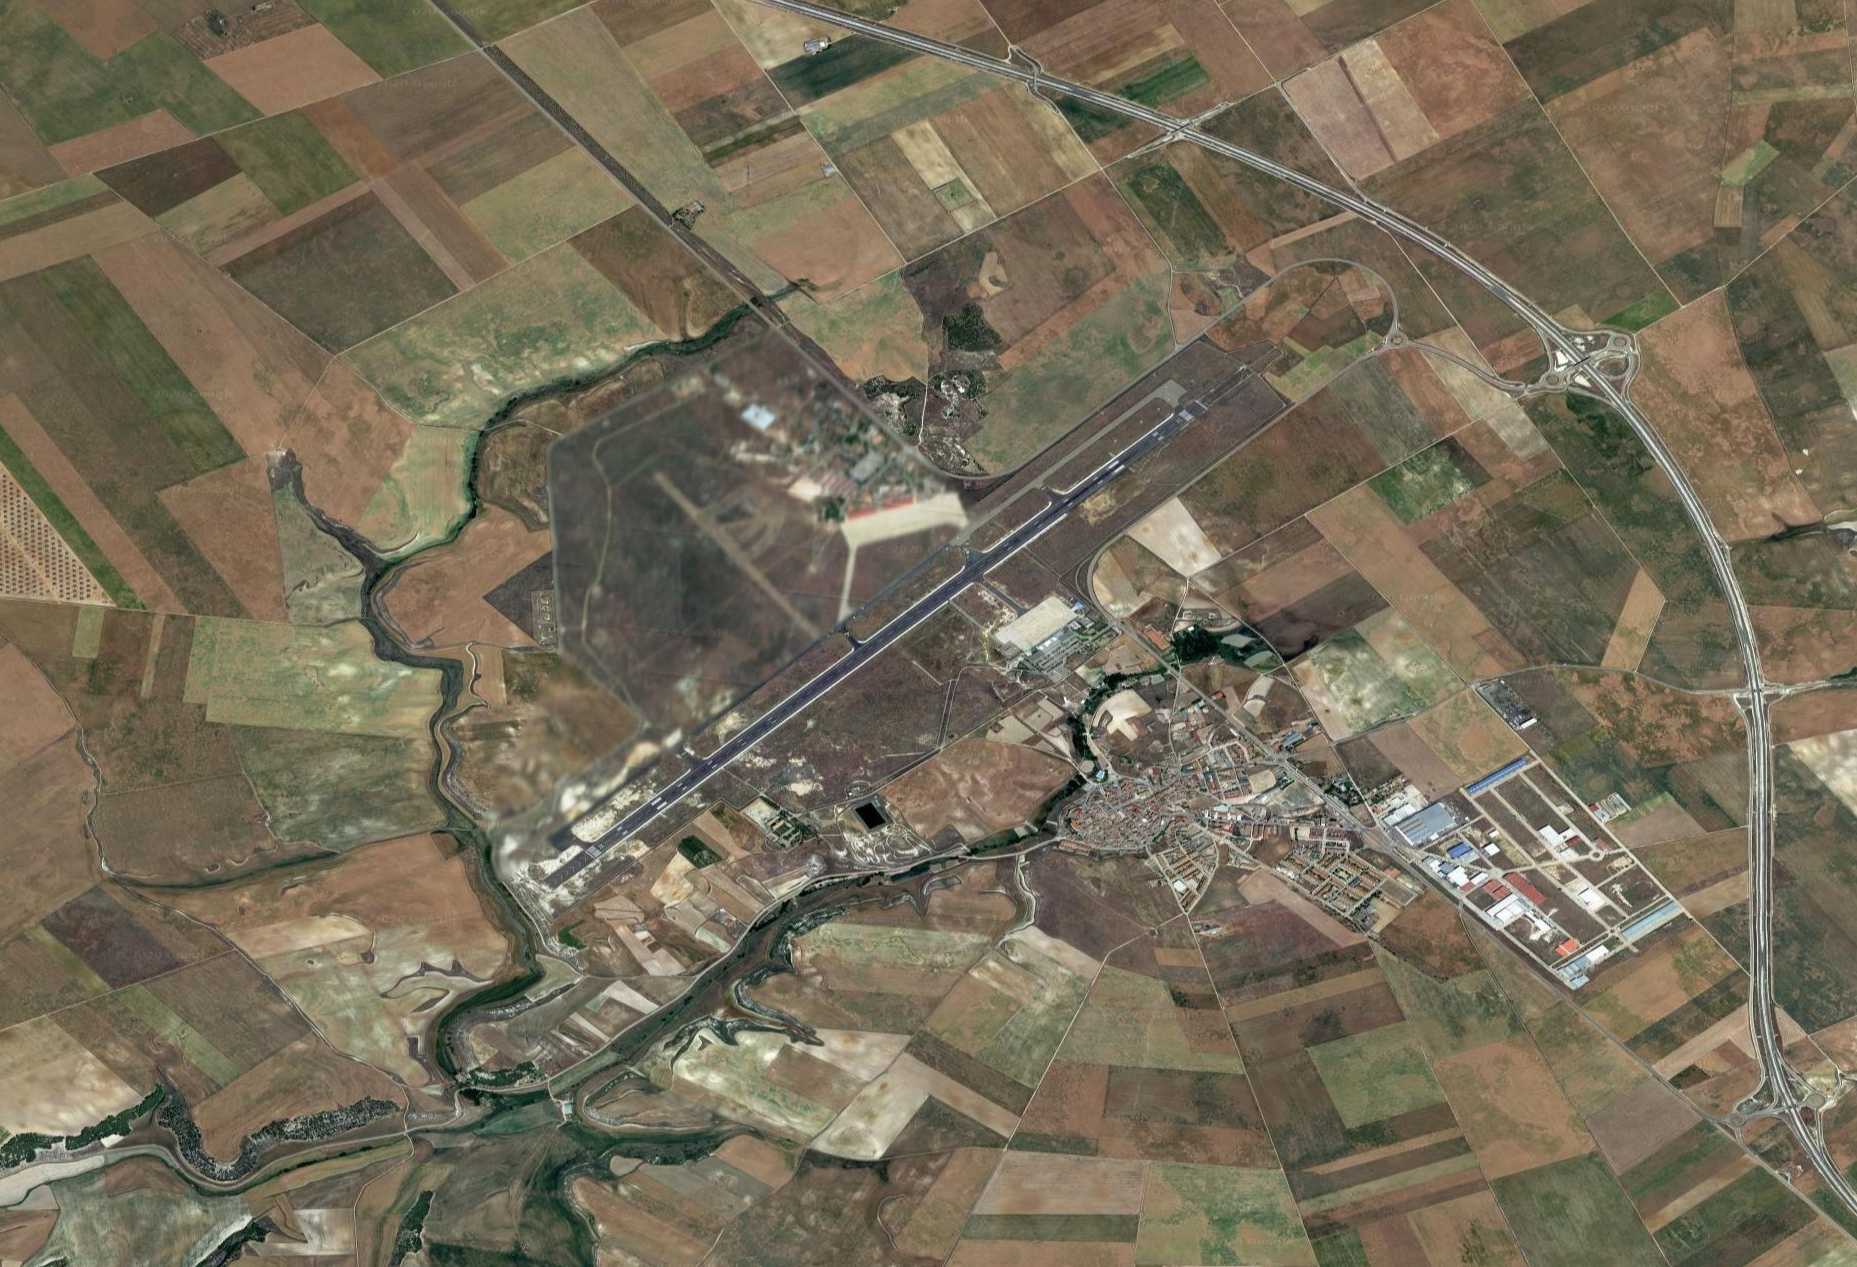airport: (538, 389, 1215, 895)
industrial: (1425, 758, 1640, 971)
motorway: (1757, 1022, 1857, 1225), (1551, 334, 1659, 451), (1736, 810, 1794, 1029), (1723, 588, 1779, 807), (1288, 174, 1436, 253), (1658, 446, 1738, 591), (1127, 104, 1291, 175), (954, 49, 1126, 113), (780, 1, 952, 63), (1435, 244, 1552, 333)
